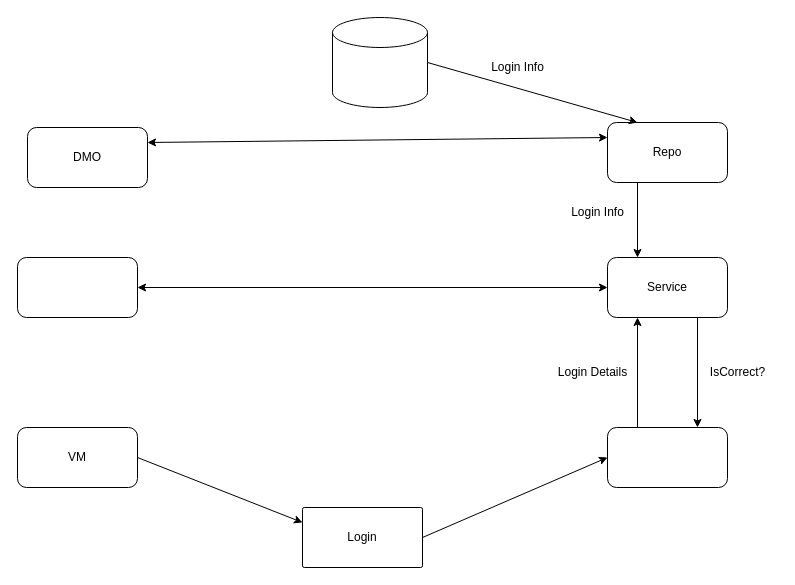
The diagram is 795 pixels wide and 585 high, and some of its shapes have lost their labels. The shapes that lost their labels are listed below. From the top down, each one's box as (x1, y1, x2, y2) in pixels, then its label:
(332, 16, 428, 108): DB
(16, 256, 138, 318): DTO
(606, 426, 728, 488): IAction
